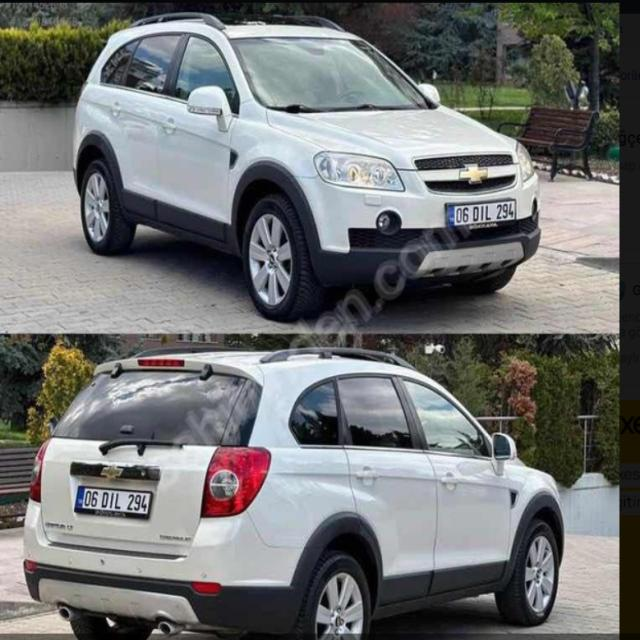chevrolet: (459, 161, 490, 187), (98, 459, 125, 482)
